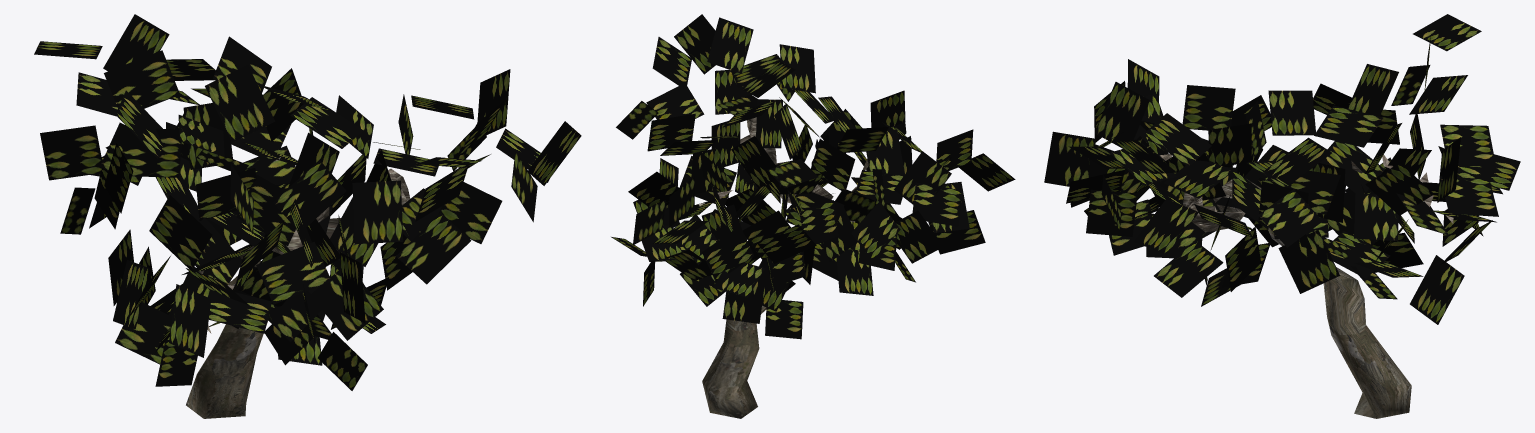
The model's file is tree-asymmetric-05-lod2.glb.
3 views of the same model, side by side, from view 1: azimuth 30°, elevation 25°; view 2: azimuth 150°, elevation 25°; view 3: azimuth 270°, elevation 25° (orthographic). The views are drawn at different scales.
Visible parts, largest first — view 1: tree-asymmetric-05_MATERIAL_BATCH; view 2: tree-asymmetric-05_MATERIAL_BATCH; view 3: tree-asymmetric-05_MATERIAL_BATCH.
Boxes of the visible parts, x1,y1,x2,y2 form: tree-asymmetric-05_MATERIAL_BATCH: (34,14,581,418); tree-asymmetric-05_MATERIAL_BATCH: (611,14,1015,418); tree-asymmetric-05_MATERIAL_BATCH: (1044,14,1520,418).
Size of the model in its own units: 12.73 by 11 by 13.52.
3 materials, 3 textured.
